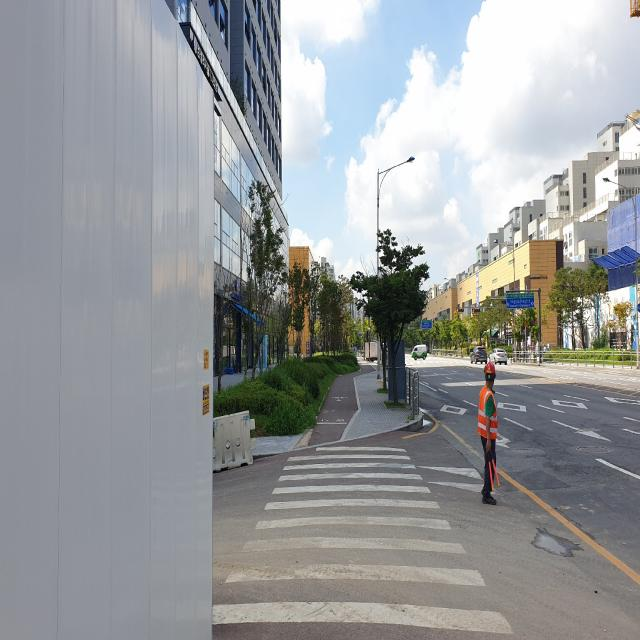횡단보도: (210, 440, 516, 640)
